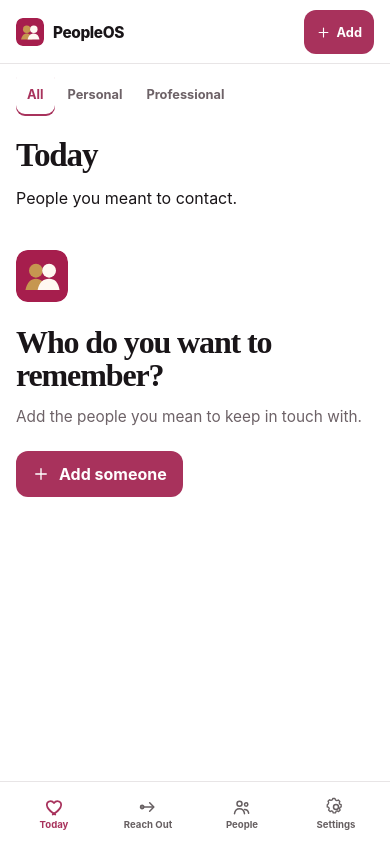
Test: PeopleOS shell › keeps Upcoming under Today and renders four primary destinations
Click the button "Add" at (339, 32), box [304,10,374,54]
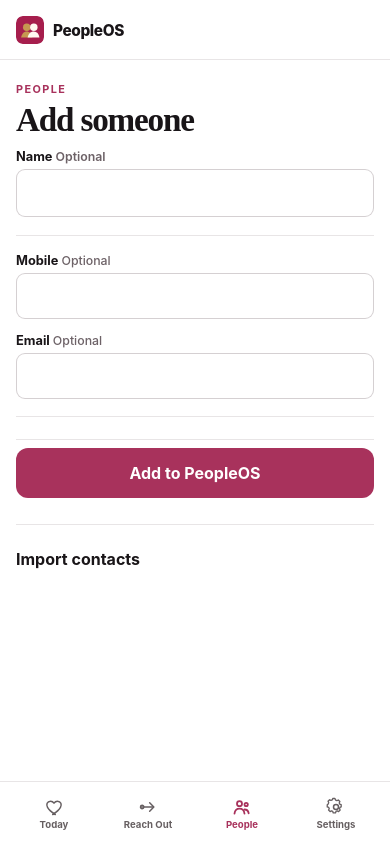
Result: the heading "Add someone" is shown at [16,101,194,138]
